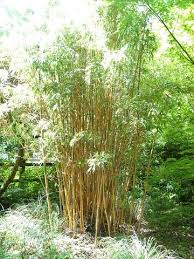bamboo: (27, 39, 156, 237)
